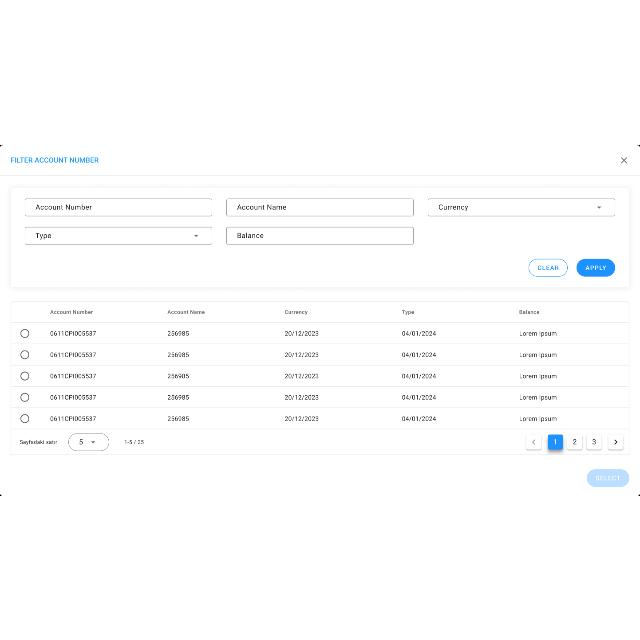QLabel: (6, 152, 102, 166), (594, 472, 622, 482), (536, 262, 560, 270), (584, 264, 608, 270)
VAppBar: (0, 144, 640, 176)
VBtn: (586, 467, 630, 485), (576, 258, 616, 276), (528, 258, 568, 276)
VCard: (10, 186, 630, 288)
VCombobox: (428, 196, 616, 216), (24, 226, 212, 244)
VDataTable: (10, 301, 630, 455)
VIcon: (619, 154, 629, 164)
VTextField: (226, 197, 414, 215), (226, 226, 414, 244), (25, 198, 212, 216)
